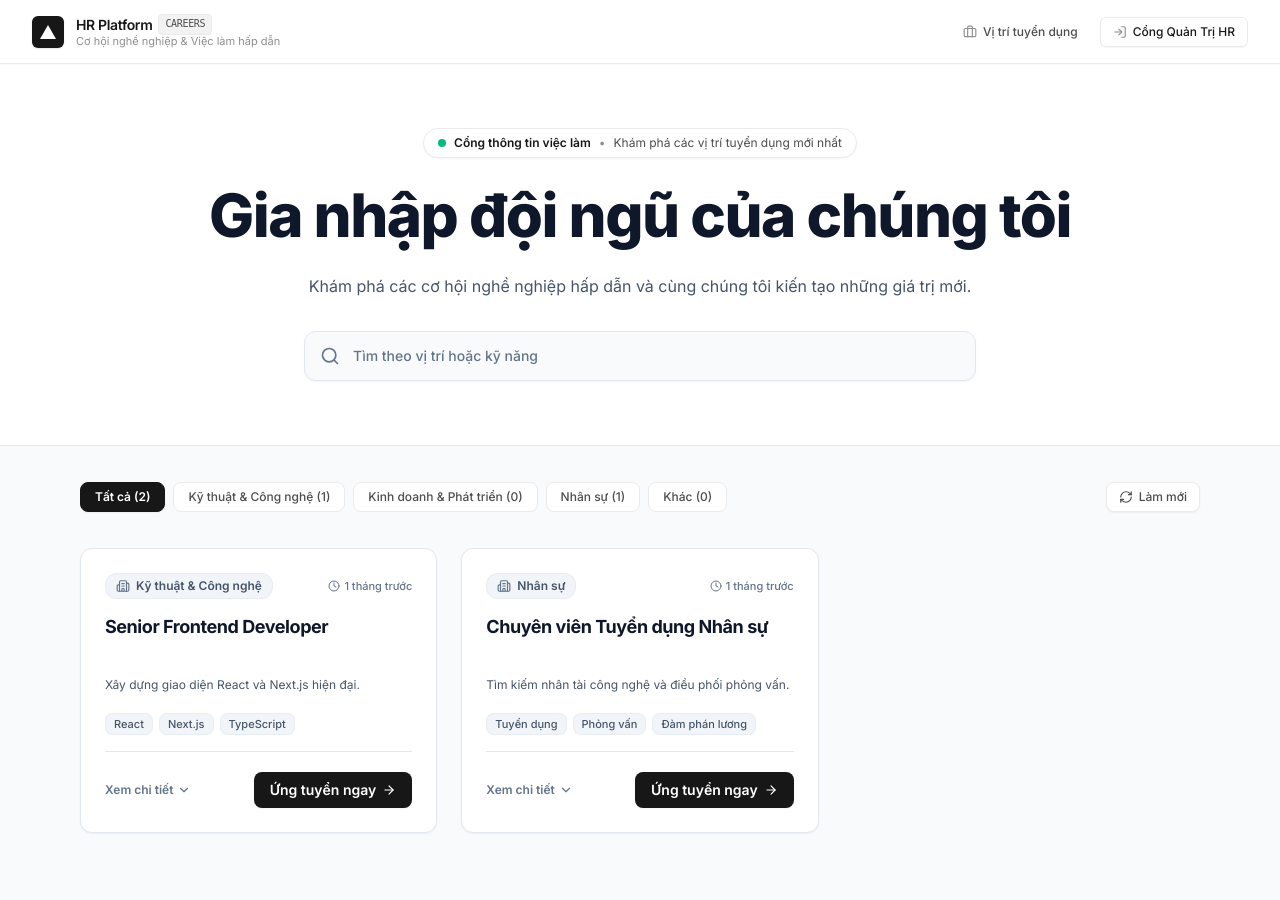
Test: CareersClient › hiển thị empty state khi không có kết quả phù hợp
Type "vi-tri-khong-ton-tai" into the field with placeholder "Tìm theo vị trí hoặc kỹ năng" at (640, 356), box [304,331,976,381]
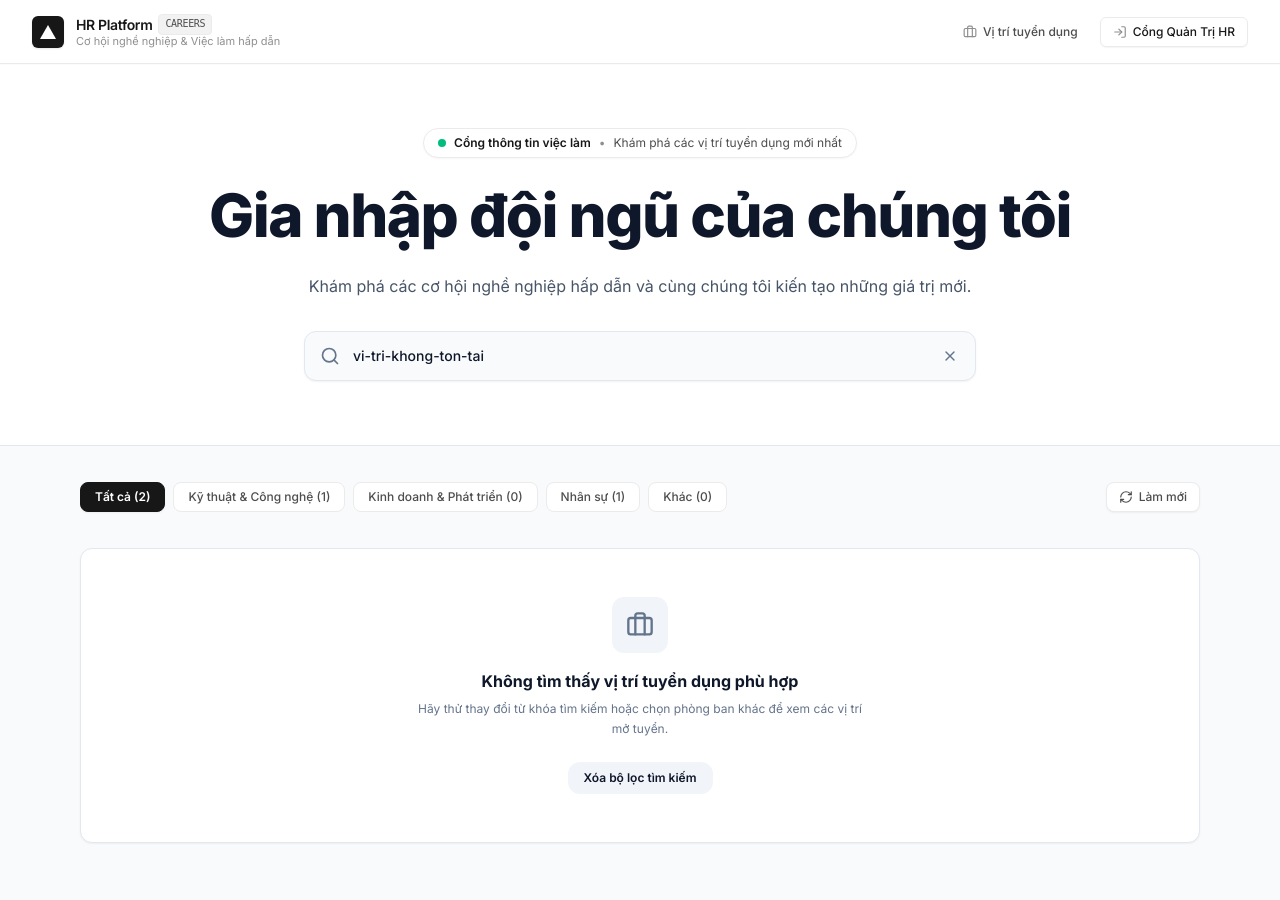
Check: the heading "Không tìm thấy vị trí tuyển dụng phù hợp" is shown, box [482,671,798,691]
